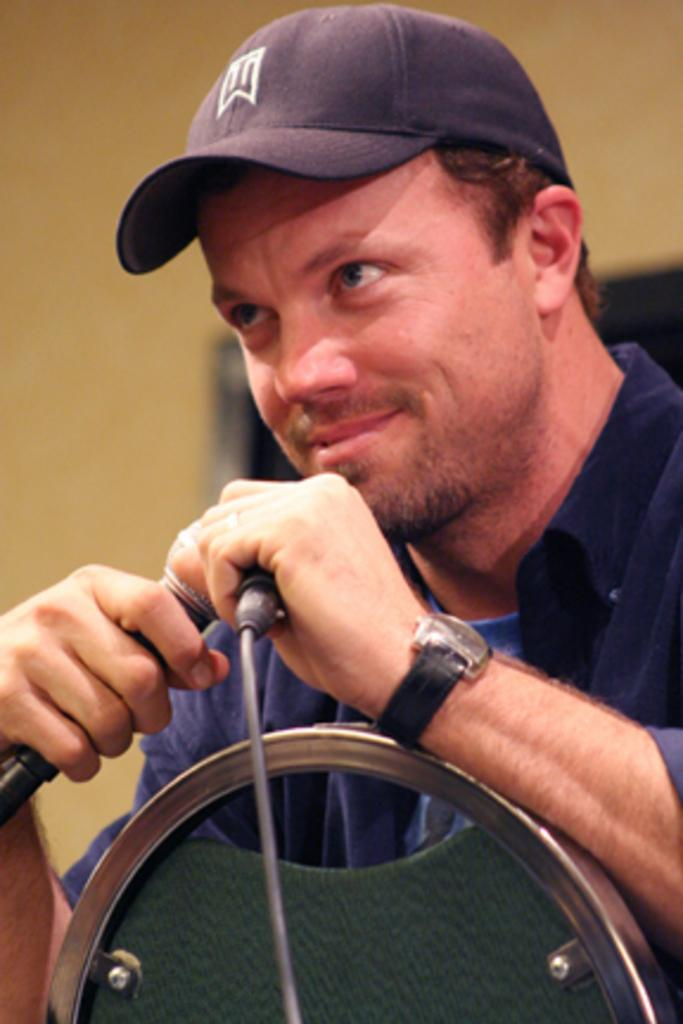Hat: (114, 0, 574, 277)
